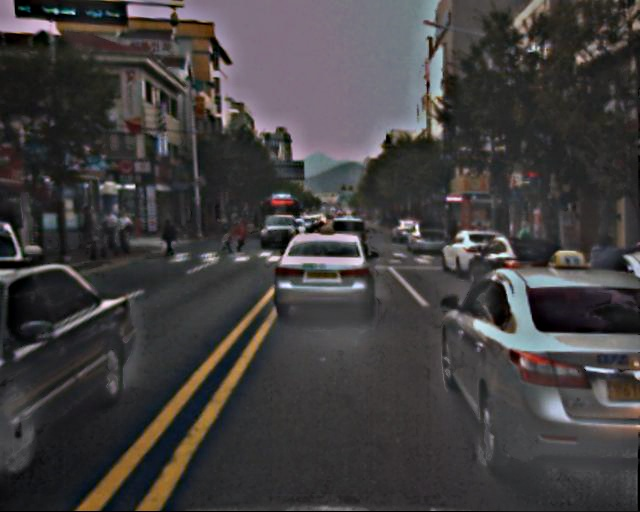person: (585, 234, 628, 340), (76, 201, 129, 248), (163, 216, 180, 257), (233, 218, 247, 251), (220, 231, 229, 254)
